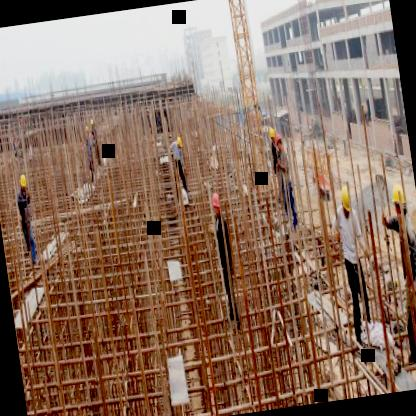helmet: (388, 180, 408, 218), (336, 180, 354, 220), (208, 190, 223, 214), (17, 171, 28, 192), (173, 132, 184, 152), (274, 130, 282, 148), (268, 125, 276, 142), (88, 113, 95, 130), (83, 121, 90, 136)
